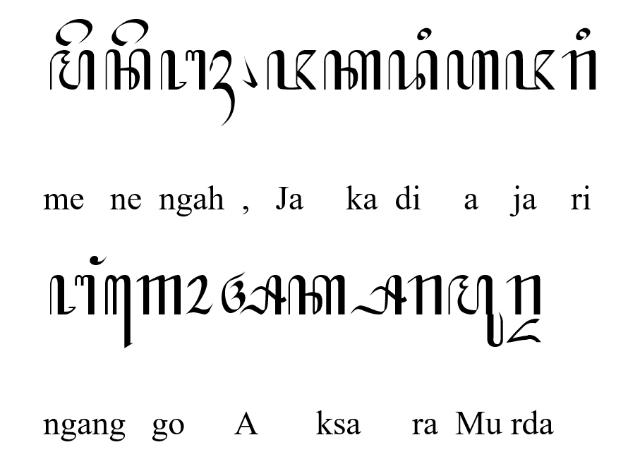A: (221, 271, 287, 315)
_d: (506, 318, 540, 344)
_h1: (210, 48, 234, 128)
_s: (349, 274, 407, 316)
d: (388, 48, 438, 92)
e: (55, 18, 93, 46), (111, 18, 149, 46)
e1: (105, 274, 134, 350)
g: (136, 274, 182, 318)
h: (446, 48, 498, 92)
i: (575, 26, 591, 42), (416, 27, 434, 41)
j: (266, 49, 318, 91), (504, 49, 556, 91)
k: (288, 275, 348, 317), (323, 49, 381, 90)
kom: (242, 56, 258, 88)
m: (50, 49, 94, 91)
mu: (448, 274, 504, 348)
n: (105, 48, 152, 90)
ng: (89, 255, 107, 265)
nga: (160, 48, 207, 90), (50, 274, 96, 316)
o: (185, 274, 213, 316)
r: (406, 275, 444, 315), (506, 274, 542, 316), (562, 49, 596, 90)
